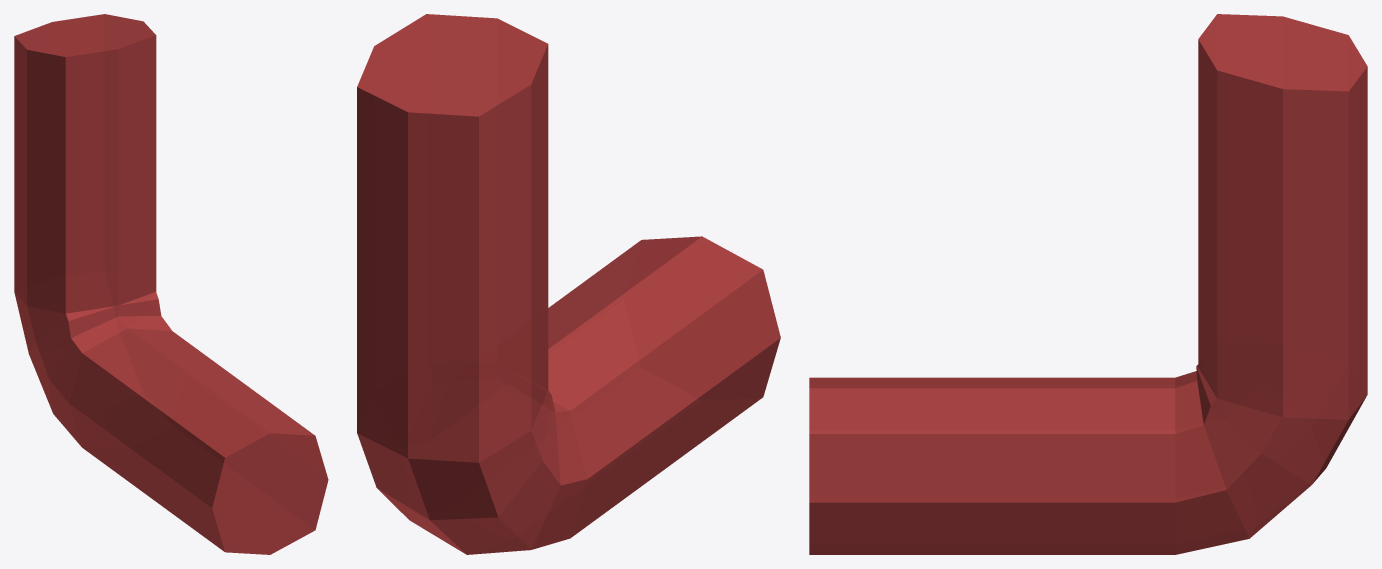
Rendered from SmallHandlerCanon.fbx.
3 views of the same model, side by side, from view 1: azimuth 30°, elevation 25°; view 2: azimuth 150°, elevation 25°; view 3: azimuth 270°, elevation 25° (orthographic). The views are drawn at different scales.
Parts seen in each view (by area): view 1: SmallHandler; view 2: SmallHandler; view 3: SmallHandler.
Part boxes in pixels (bbox=[...]): SmallHandler: bbox=[14, 14, 328, 554]; SmallHandler: bbox=[357, 14, 780, 554]; SmallHandler: bbox=[809, 14, 1367, 554].
Size of the model in its own units: 3.53 by 11.44 by 11.47.
